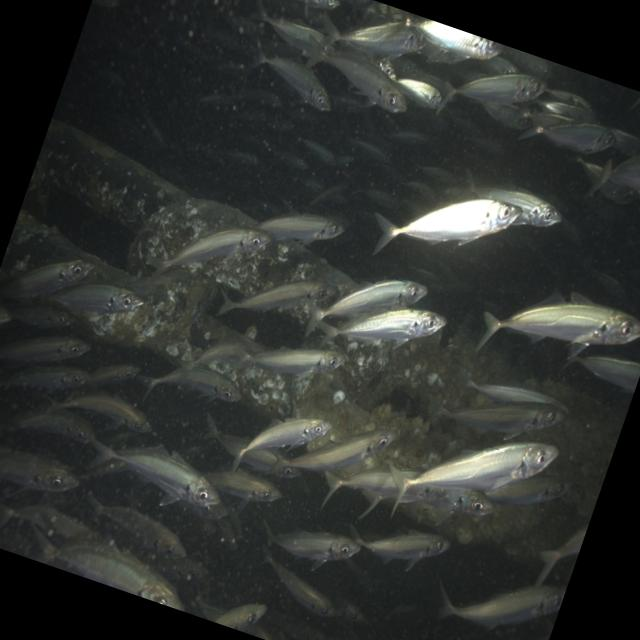ChainLink: (0, 210, 215, 359), (42, 119, 188, 229), (185, 239, 357, 298), (128, 198, 255, 275), (286, 306, 308, 325)
